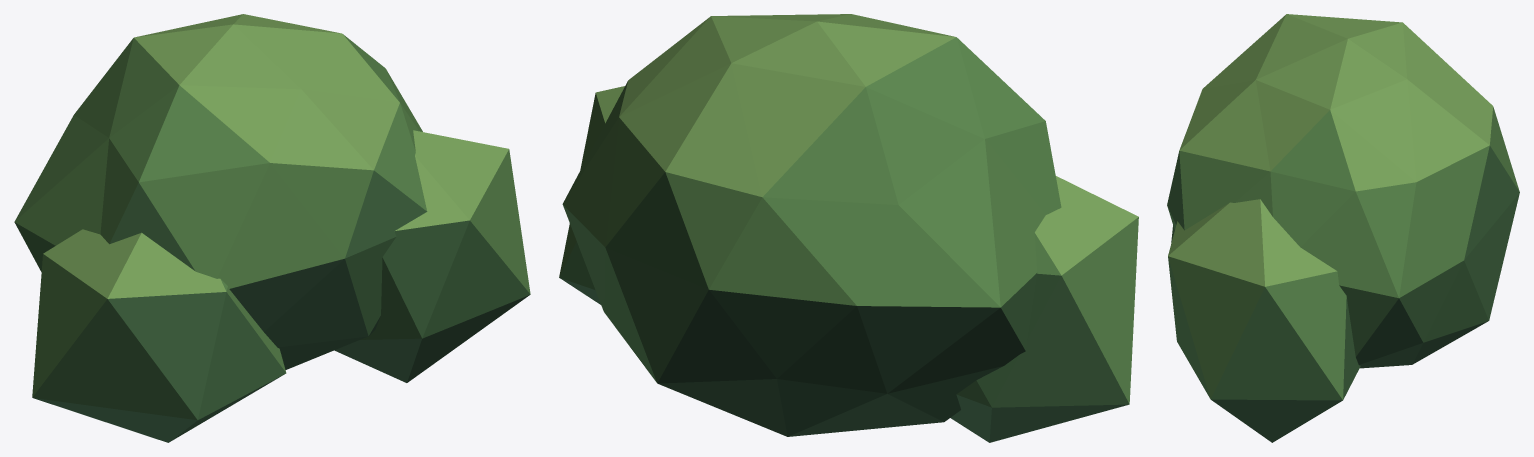
File: forest_bush.fbx
3 renders of one model, left to right at view 1: azimuth 30°, elevation 25°; view 2: azimuth 150°, elevation 25°; view 3: azimuth 270°, elevation 25°, orthographic. The views are drawn at different scales.
Parts seen in each view (by area): view 1: forest_bush; view 2: forest_bush; view 3: forest_bush.
Part boxes in pixels (x1=…): forest_bush: x1=14, y1=14, x2=530, y2=442; forest_bush: x1=559, y1=14, x2=1138, y2=442; forest_bush: x1=1167, y1=14, x2=1519, y2=442.
Size of the model in its own units: 0.5071 by 0.3774 by 0.3518.
